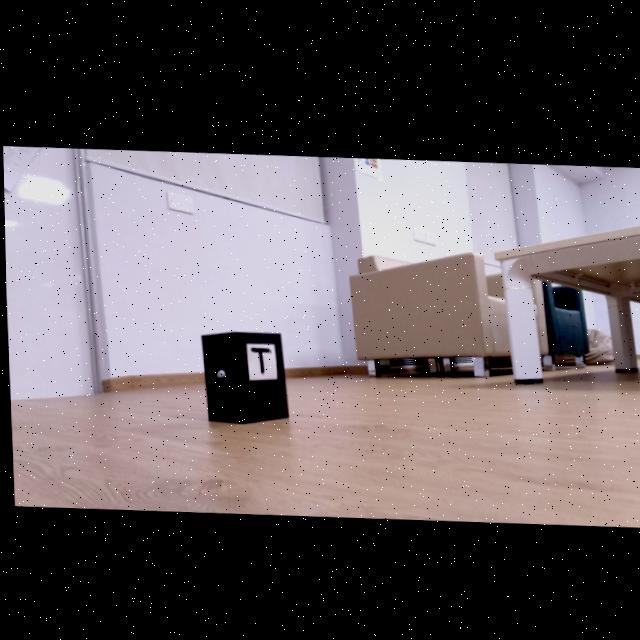T: (249, 345, 268, 372)
